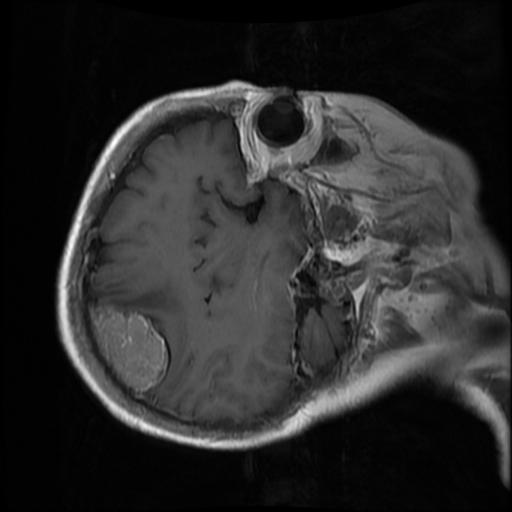meningioma: (89, 299, 168, 394)
